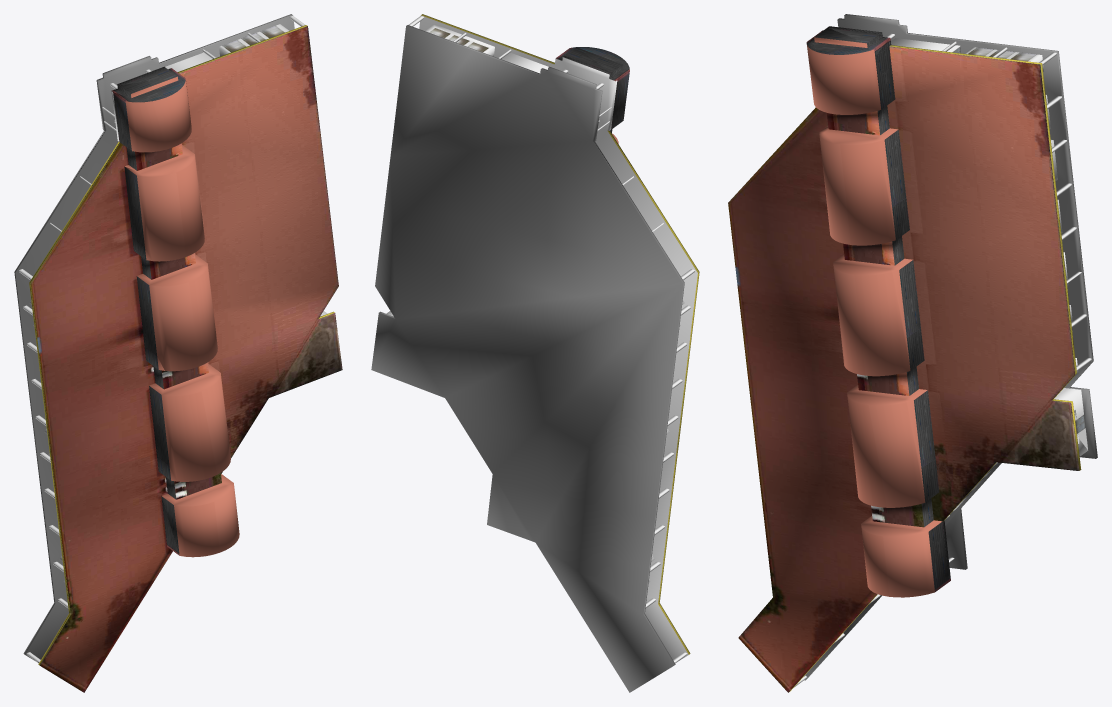
The model's file is amk_blk724_building.obj.
The picture shows the model from 3 angles, left to right: view 1: azimuth 30°, elevation 25°; view 2: azimuth 150°, elevation 25°; view 3: azimuth 330°, elevation 25°; orthographic projection. The views are drawn at different scales.
Parts seen in each view (by area): view 1: polygon.867; view 2: polygon.867; view 3: polygon.867.
Part boxes in pixels (left/top/right/bottom): polygon.867: left=14, top=14, right=342, bottom=692; polygon.867: left=371, top=14, right=699, bottom=692; polygon.867: left=728, top=14, right=1097, bottom=692.
Size of the model in its own units: 53.35 by 100 by 11.71.
1 material, 1 textured.
